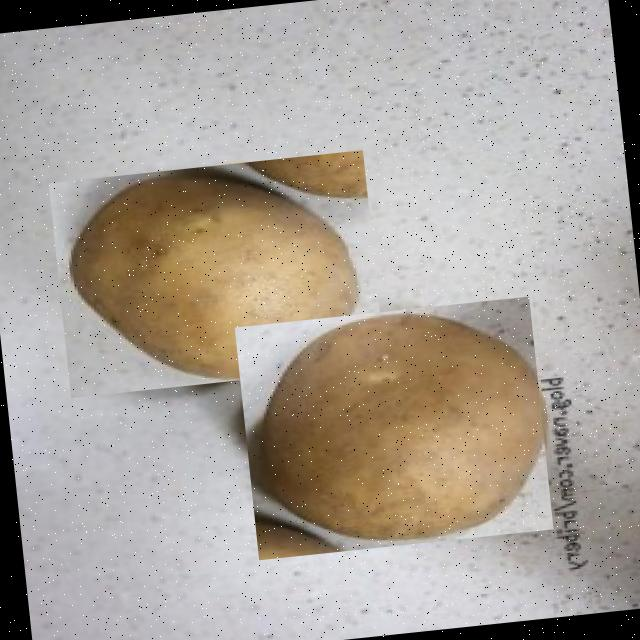Potato: (234, 295, 553, 559), (48, 148, 385, 396)
